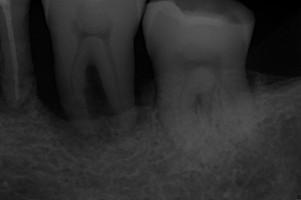Dental Caries: (41, 65, 153, 158)
